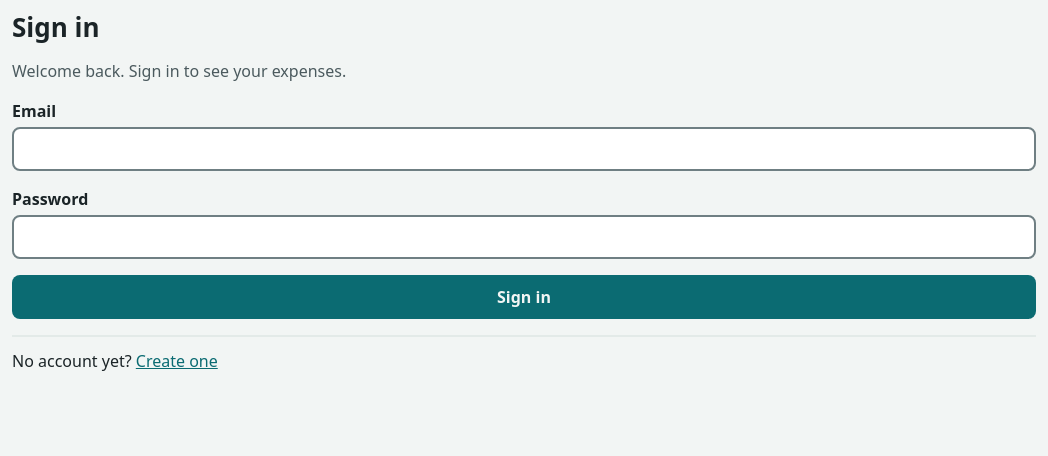
Test: LoginView › shows the server message and stays on the page when sign-in fails
In the field labelled "Email": (524, 149) top-left (12, 127), bottom-right (1036, 171), type "ada@example.com"
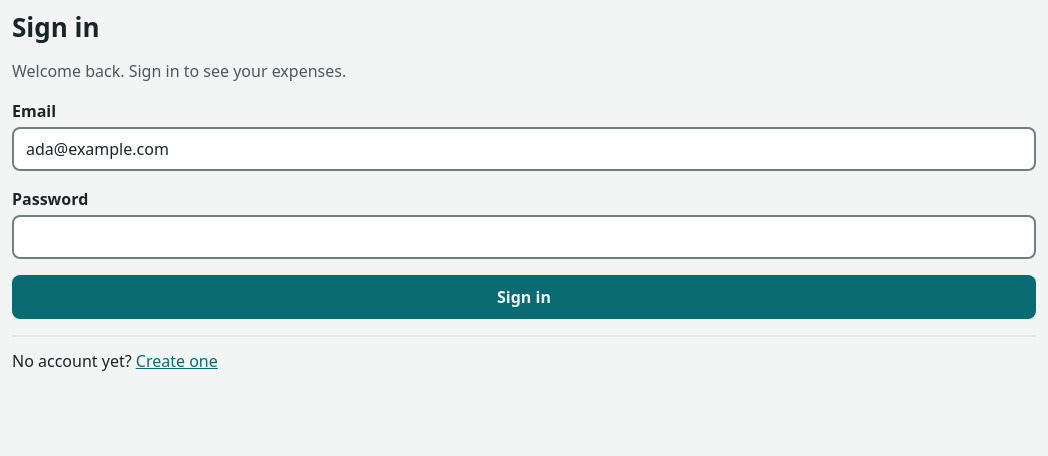
In the password field labelled "Password": (524, 237) top-left (12, 215), bottom-right (1036, 259), type "secret-pw"
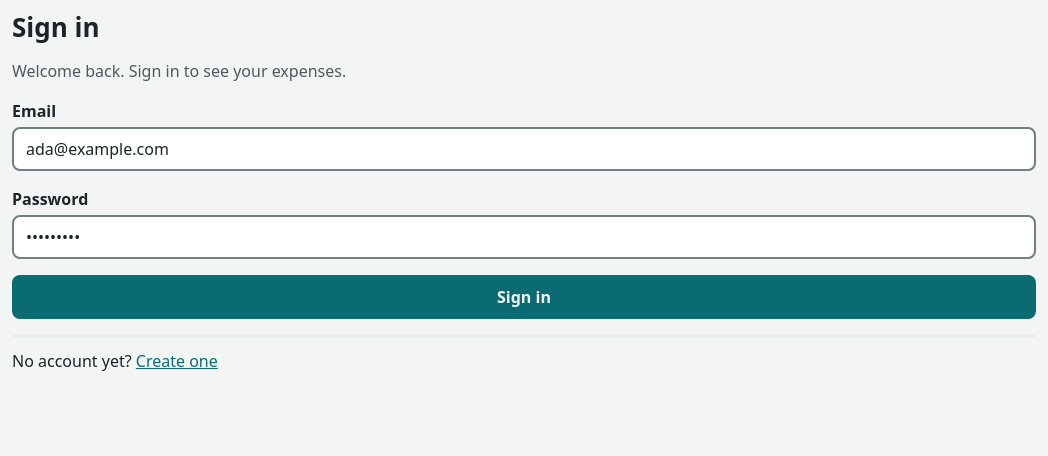
Submit the form, box top-left (12, 99), bottom-right (1036, 319)
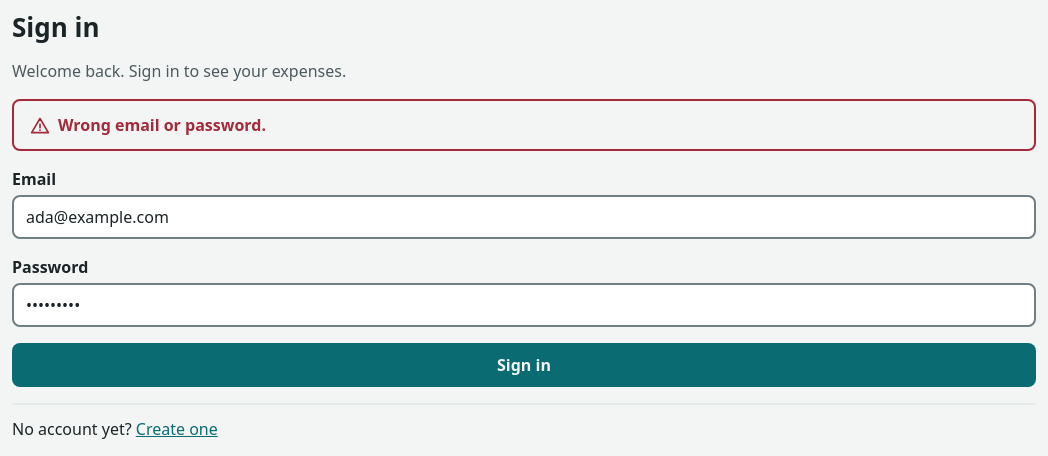
Expected: the message "Wrong email or password." is shown, top-left (12, 99), bottom-right (1036, 151)
